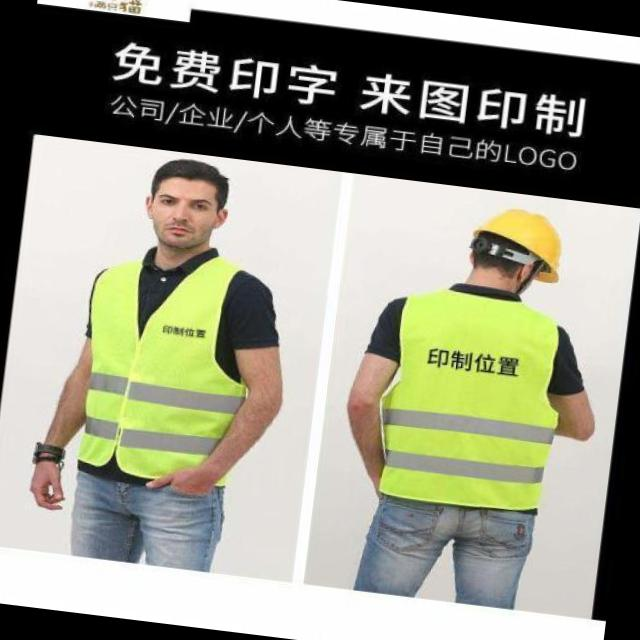helmet: (464, 200, 566, 286)
vest: (66, 236, 264, 496), (366, 280, 570, 522)
